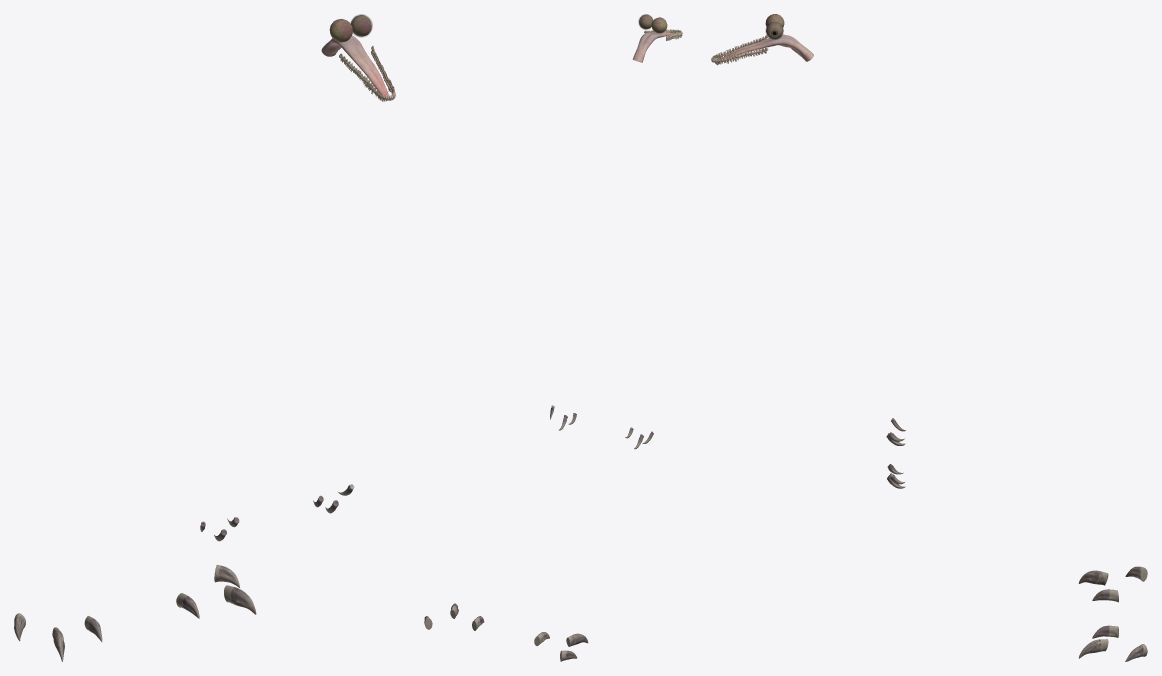
File: jurassic_world_dominion_gallimimusmsfs2024orbx.glb
3 views of the same model, side by side, from view 1: azimuth 30°, elevation 25°; view 2: azimuth 150°, elevation 25°; view 3: azimuth 270°, elevation 25° (orthographic). The views are drawn at different scales.
Parts seen in each view (by area): view 1: GALLIMIMUS_claws, GALLIMIMUS_tongue; view 2: GALLIMIMUS_claws, GALLIMIMUS_tongue; view 3: GALLIMIMUS_claws, GALLIMIMUS_tongue.
Part boxes in pixels (x1,y1,x2,y2): GALLIMIMUS_claws: [14, 484, 354, 661]; GALLIMIMUS_tongue: [321, 35, 389, 97]; GALLIMIMUS_claws: [424, 405, 653, 661]; GALLIMIMUS_tongue: [632, 31, 672, 62]; GALLIMIMUS_claws: [886, 418, 1147, 661]; GALLIMIMUS_tongue: [720, 34, 813, 61].
Size of what is drawn, in the model's own units: 0.9292 by 3.05 by 2.
Materials: 2 (1 with a texture image).
